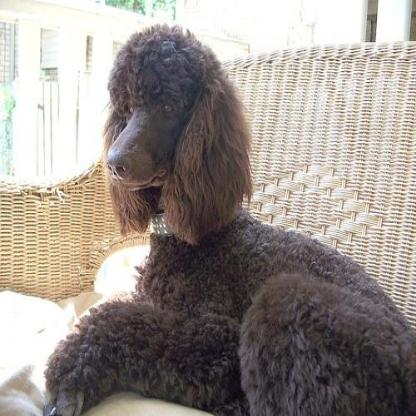standard_poodle: (38, 20, 414, 414)
